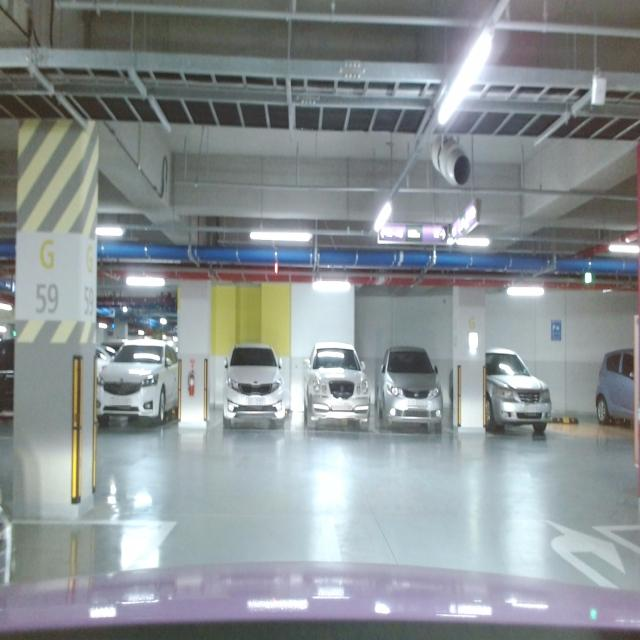empty: (543, 412, 637, 438)
occupied: (87, 326, 183, 424), (302, 338, 370, 436), (375, 356, 457, 436), (485, 356, 550, 448), (222, 349, 286, 438)
